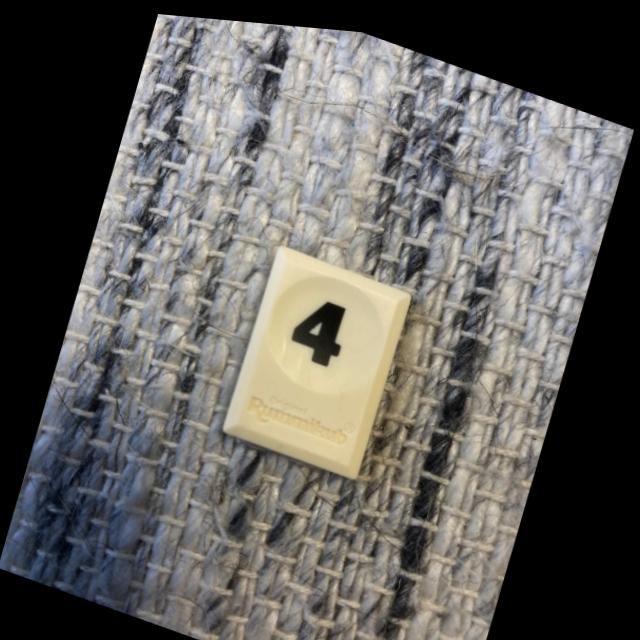black_4: (224, 242, 411, 472)
